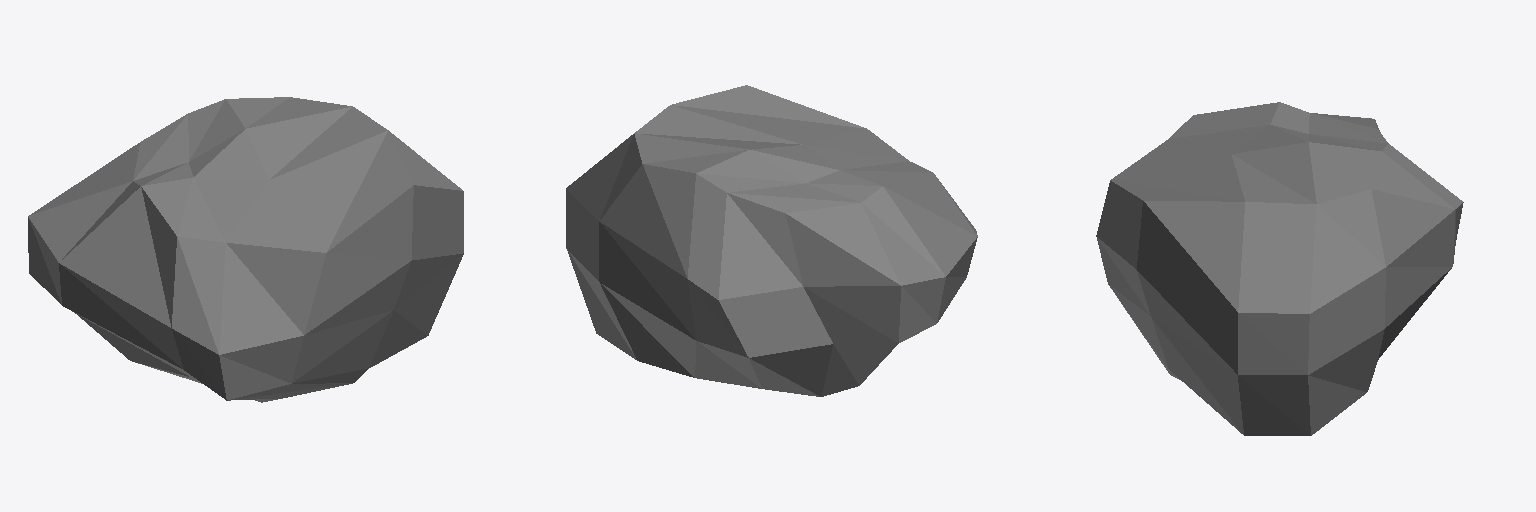
Rendered from rock.obj.
The picture shows the model from 3 angles: view 1: azimuth 30°, elevation 25°; view 2: azimuth 150°, elevation 25°; view 3: azimuth 270°, elevation 25°; orthographic projection.
Visible parts, largest first — view 1: Rock_2; view 2: Rock_2; view 3: Rock_2.
Part boxes in pixels (x1,y1,x2,y2): Rock_2: (28, 97, 463, 402); Rock_2: (566, 85, 977, 396); Rock_2: (1096, 102, 1463, 435).
Bounding box in the file's own units: 1.63 × 0.9628 × 1.38.